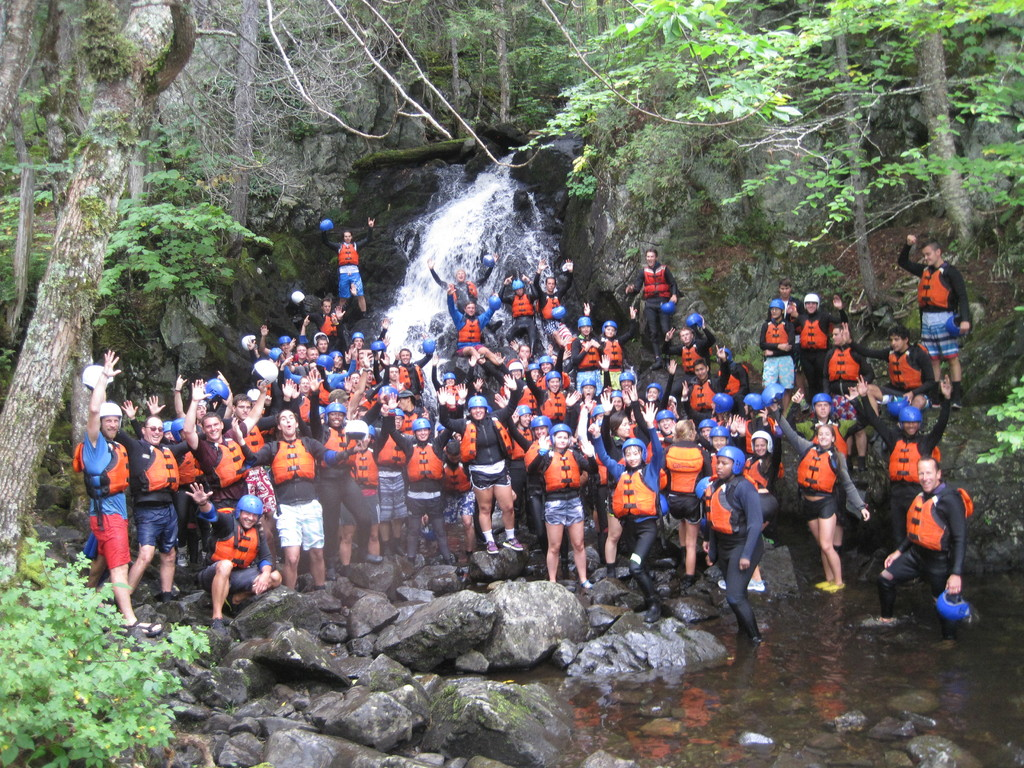Person: (70, 216, 980, 646)
